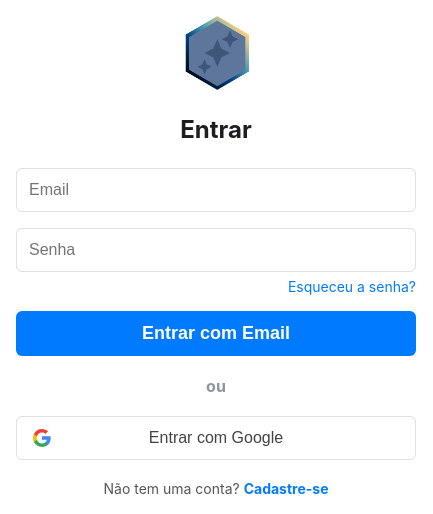
Test: LoginPage › Navegação entre views › deve exibir o formulário de cadastro ao clicar em "Cadastre-se"
Click the text "Cadastre-se" at (286, 489), box top-left (244, 480), bottom-right (328, 497)
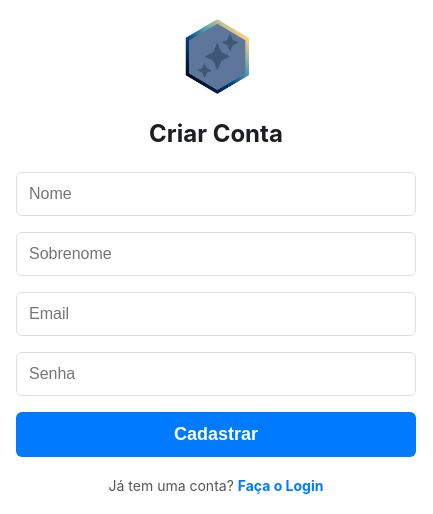
Expected: the heading "Criar Conta" is shown, top-left (149, 119), bottom-right (283, 148)
